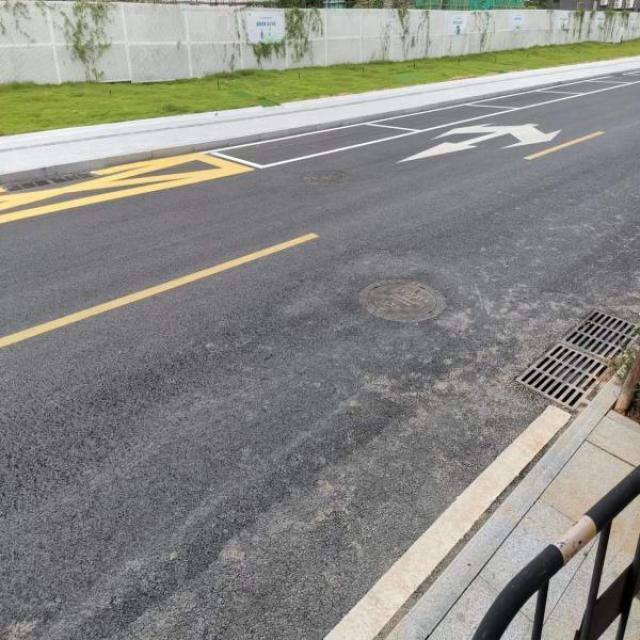Good: (354, 275, 444, 325)
